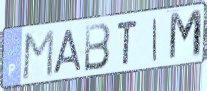A: (51, 27, 83, 76)
B: (83, 21, 112, 74)
I: (151, 16, 159, 63)
M: (167, 7, 204, 64), (21, 27, 56, 82)
T: (116, 18, 139, 67)
